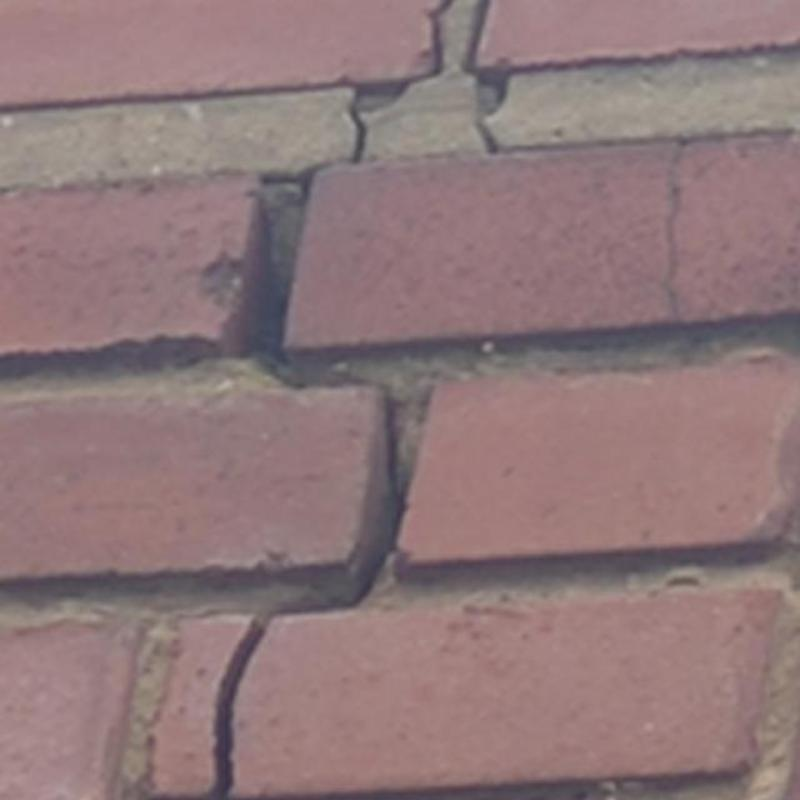pothole: (206, 159, 404, 799), (660, 140, 689, 326), (352, 83, 405, 160), (477, 73, 509, 151)
